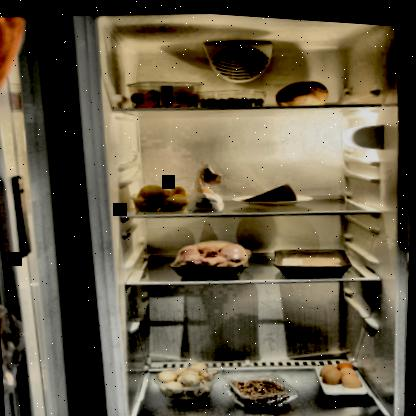blueberries: (200, 88, 267, 108)
cheese: (241, 176, 302, 205)
chicken: (175, 233, 251, 278), (278, 244, 349, 276)
eggs: (320, 353, 367, 389)
mushrooms: (156, 354, 225, 399)
potato: (128, 178, 191, 216)
shrimp: (232, 369, 295, 408)
strawberries: (130, 79, 202, 112)
sweet_potato: (275, 73, 333, 107)
